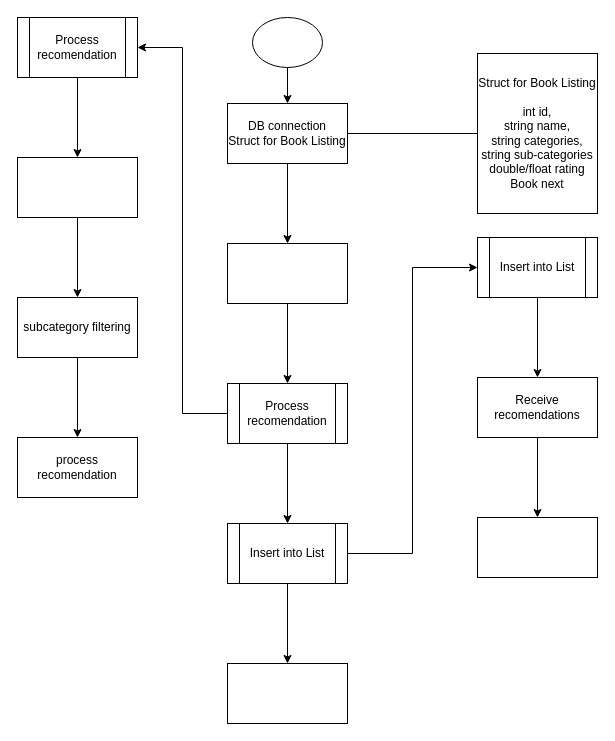
The diagram is 615 pixels wide and 741 high, and some of its shapes have lost their labels. Each missing label, with the centre of its shape:
"category filtering" goes at (x=77, y=187).
"Print recomendations" goes at (x=287, y=693).
"Put in list" goes at (x=537, y=547).
"Start" goes at (x=287, y=42).
"User input" goes at (x=287, y=273).
